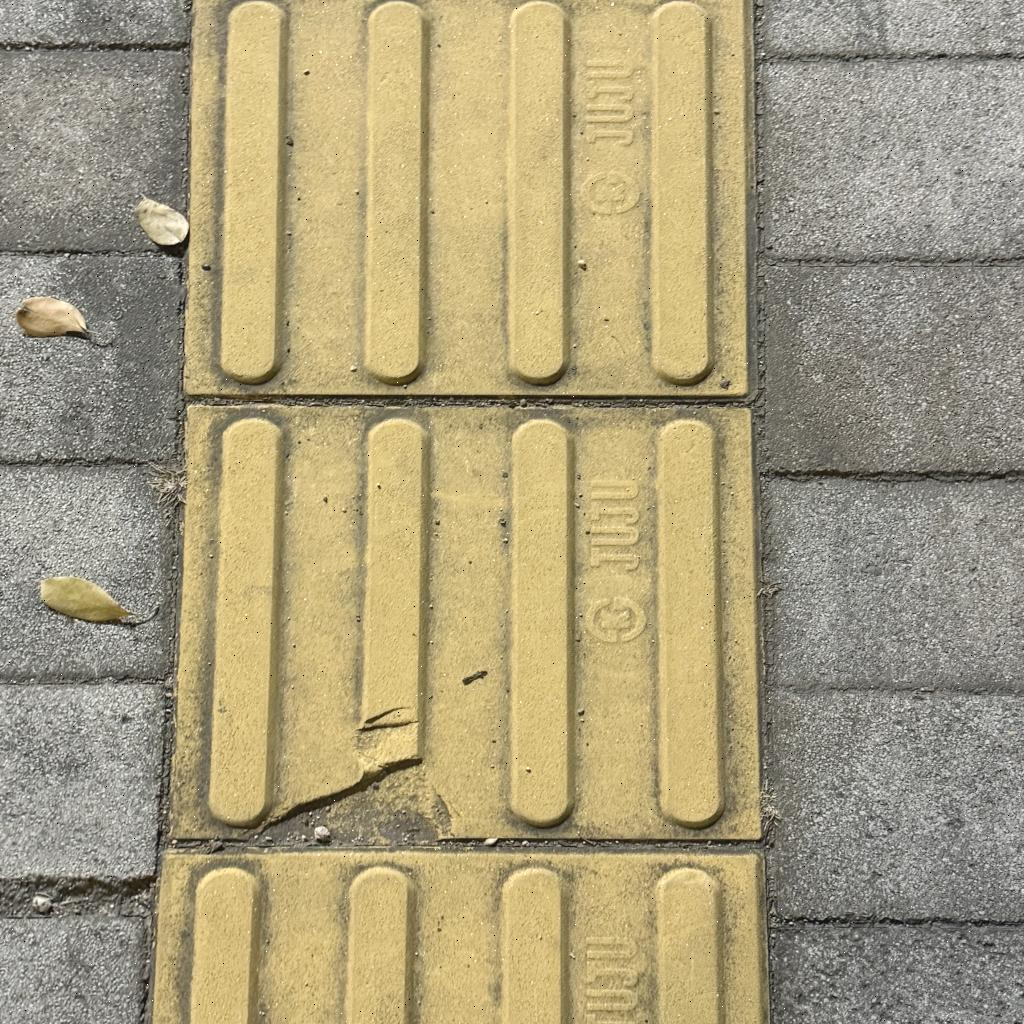Straight block broken: (167, 407, 753, 841)
Straight block normal: (197, 2, 741, 394)
